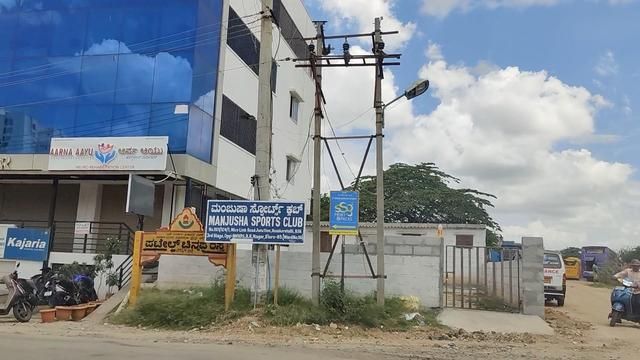LMV: (615, 258, 640, 326), (543, 252, 568, 296)
